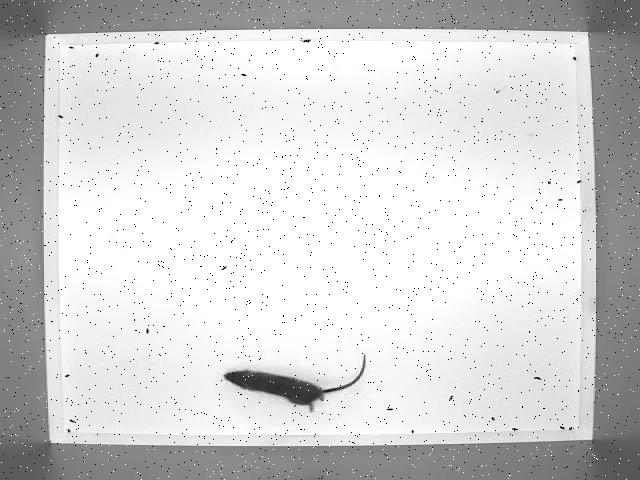Tikus: (218, 348, 372, 412)
